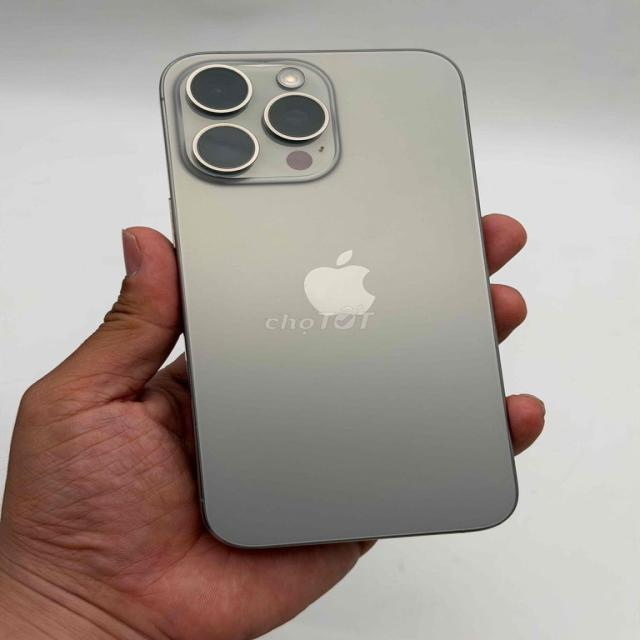gen_15: (142, 44, 524, 554)
